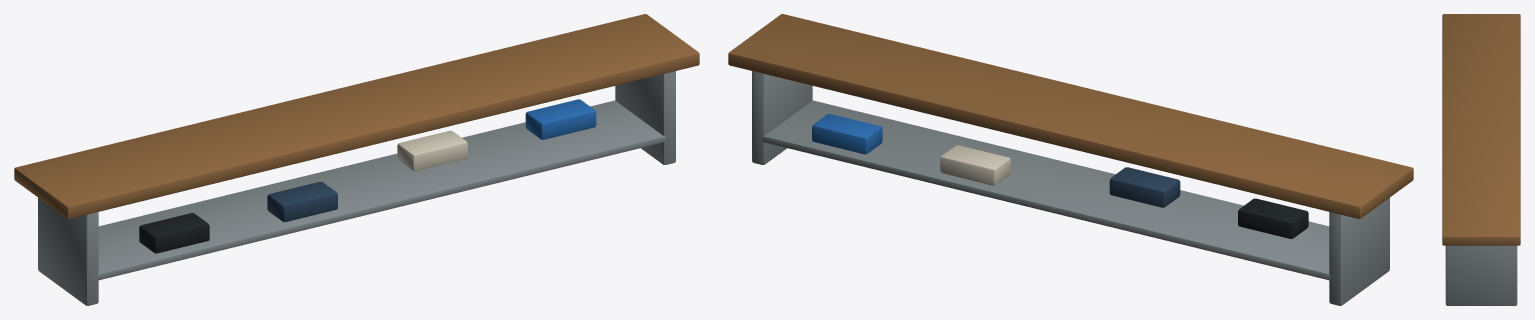
File: sc-step-over-bench.glb
3 views of the same model, side by side, from view 1: azimuth 30°, elevation 25°; view 2: azimuth 150°, elevation 25°; view 3: azimuth 270°, elevation 25° (orthographic). The views are drawn at different scales.
Parts seen in each view (by area): view 1: sc-step-over-bench; view 2: sc-step-over-bench; view 3: sc-step-over-bench.
Boxes of the visible parts, x1,y1,x2,y2 form: sc-step-over-bench: [14, 14, 699, 305]; sc-step-over-bench: [728, 14, 1413, 305]; sc-step-over-bench: [1442, 14, 1520, 305].
Size of the model in its own units: 2.96 by 0.48 by 0.44.
